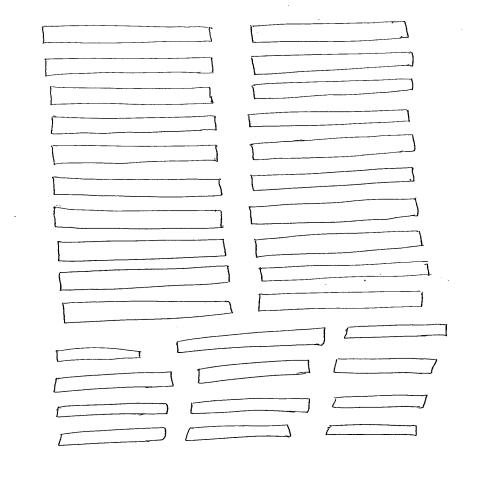Textbox: (255, 231, 424, 259), (59, 266, 232, 292), (249, 199, 420, 225), (249, 135, 416, 161), (62, 301, 235, 325), (250, 168, 416, 193), (53, 207, 223, 231), (58, 239, 228, 263), (176, 328, 327, 355), (251, 52, 414, 76), (259, 261, 431, 283), (52, 177, 223, 199), (258, 291, 425, 313), (51, 145, 219, 166), (51, 115, 218, 136), (251, 22, 410, 44), (42, 25, 214, 45), (252, 79, 415, 100), (45, 57, 214, 77), (50, 86, 214, 106), (248, 110, 411, 129), (197, 360, 311, 385), (54, 372, 175, 394), (191, 398, 312, 416), (57, 428, 168, 447), (185, 426, 293, 443), (56, 403, 169, 419), (333, 358, 438, 375), (344, 325, 449, 340), (332, 395, 429, 410), (56, 348, 142, 363), (325, 425, 419, 437)
